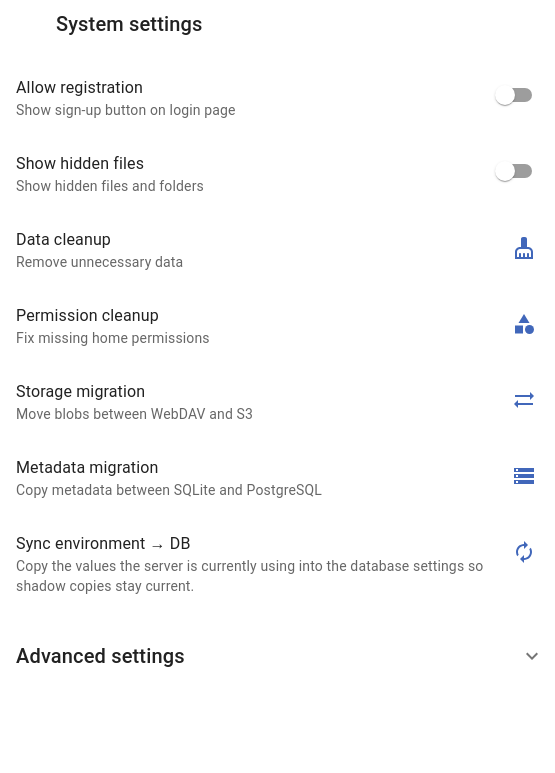
Test: SystemSettingsContent › toggle show hidden files persists to localStorage
Check: the text "Show hidden files and folders" is shown, box [16,178,204,194]
Click the 2nd switch.
click(505, 171)  # box [495,161,515,181]
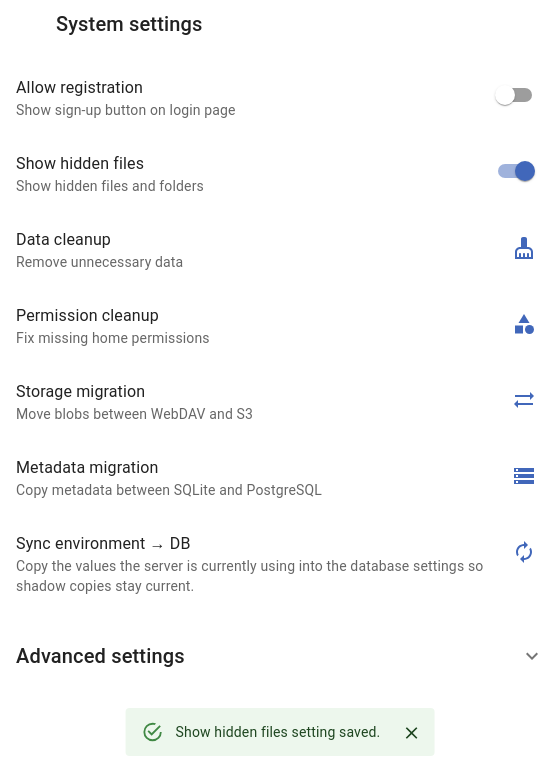
Check: the text "Show hidden files setting saved." is shown, box [176,724,380,740]
